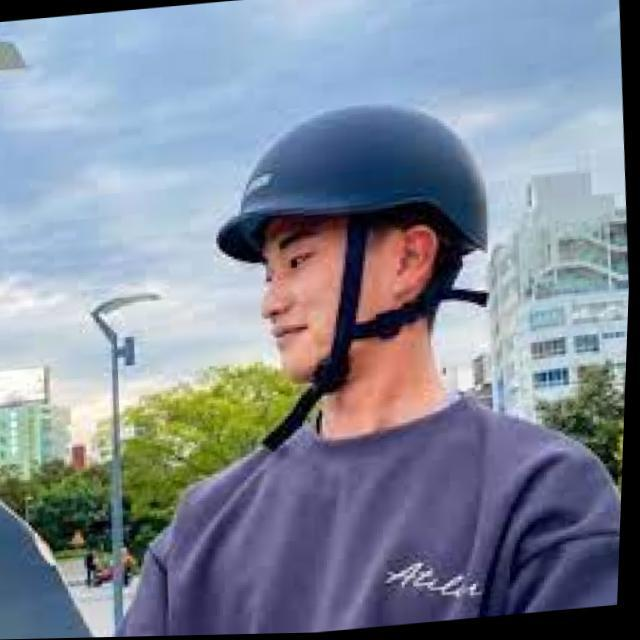Helmet: (211, 97, 495, 392)
